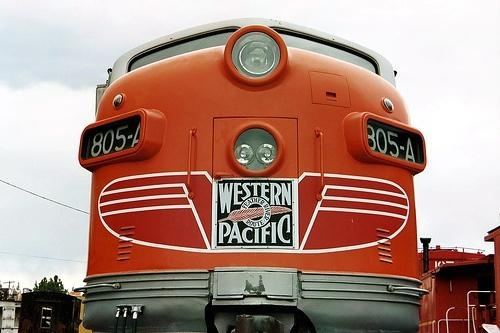train: (82, 15, 427, 333), (419, 223, 500, 333)
